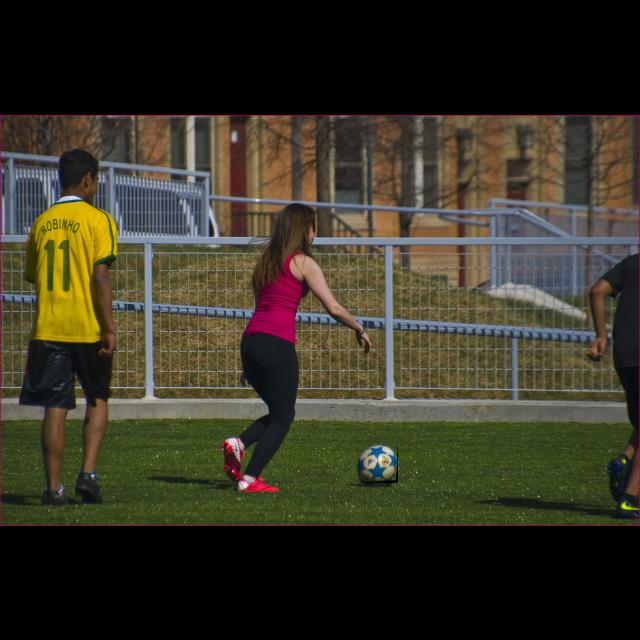Football: (358, 443, 398, 483)
